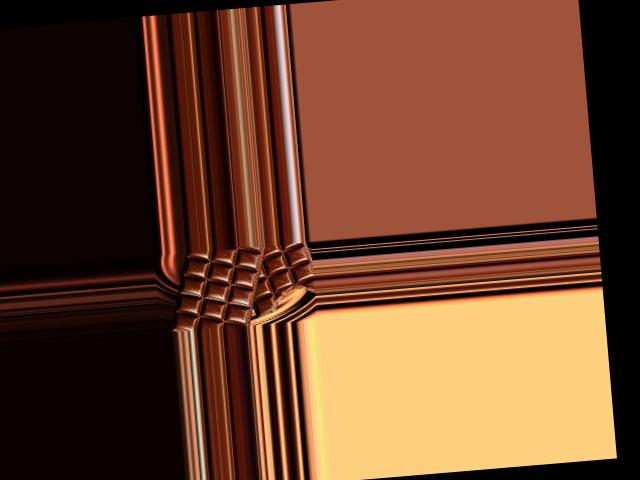chocolate: (162, 244, 272, 331)
